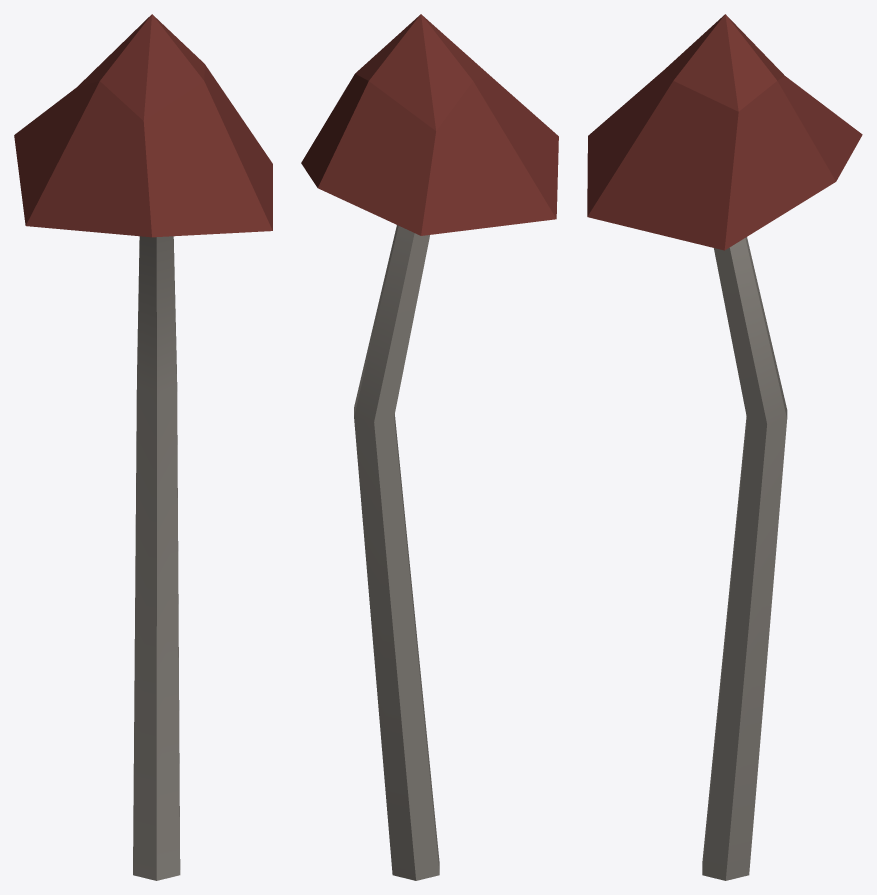
File: mushroom_alt.glb
The picture shows the model from 3 angles, left to right: view 1: azimuth 30°, elevation 25°; view 2: azimuth 150°, elevation 25°; view 3: azimuth 270°, elevation 25°; orthographic projection.
Visible parts, largest first — view 1: SM_Env_Dungeon_Mushroom_02; view 2: SM_Env_Dungeon_Mushroom_02; view 3: SM_Env_Dungeon_Mushroom_02.
Boxes of the visible parts, bbox=[...] form: SM_Env_Dungeon_Mushroom_02: bbox=[14, 14, 272, 880]; SM_Env_Dungeon_Mushroom_02: bbox=[301, 14, 558, 880]; SM_Env_Dungeon_Mushroom_02: bbox=[587, 14, 862, 880].
Bounding box in the file's own units: 0.2759 × 0.8983 × 0.2629.
Materials: 1 (1 with a texture image).
